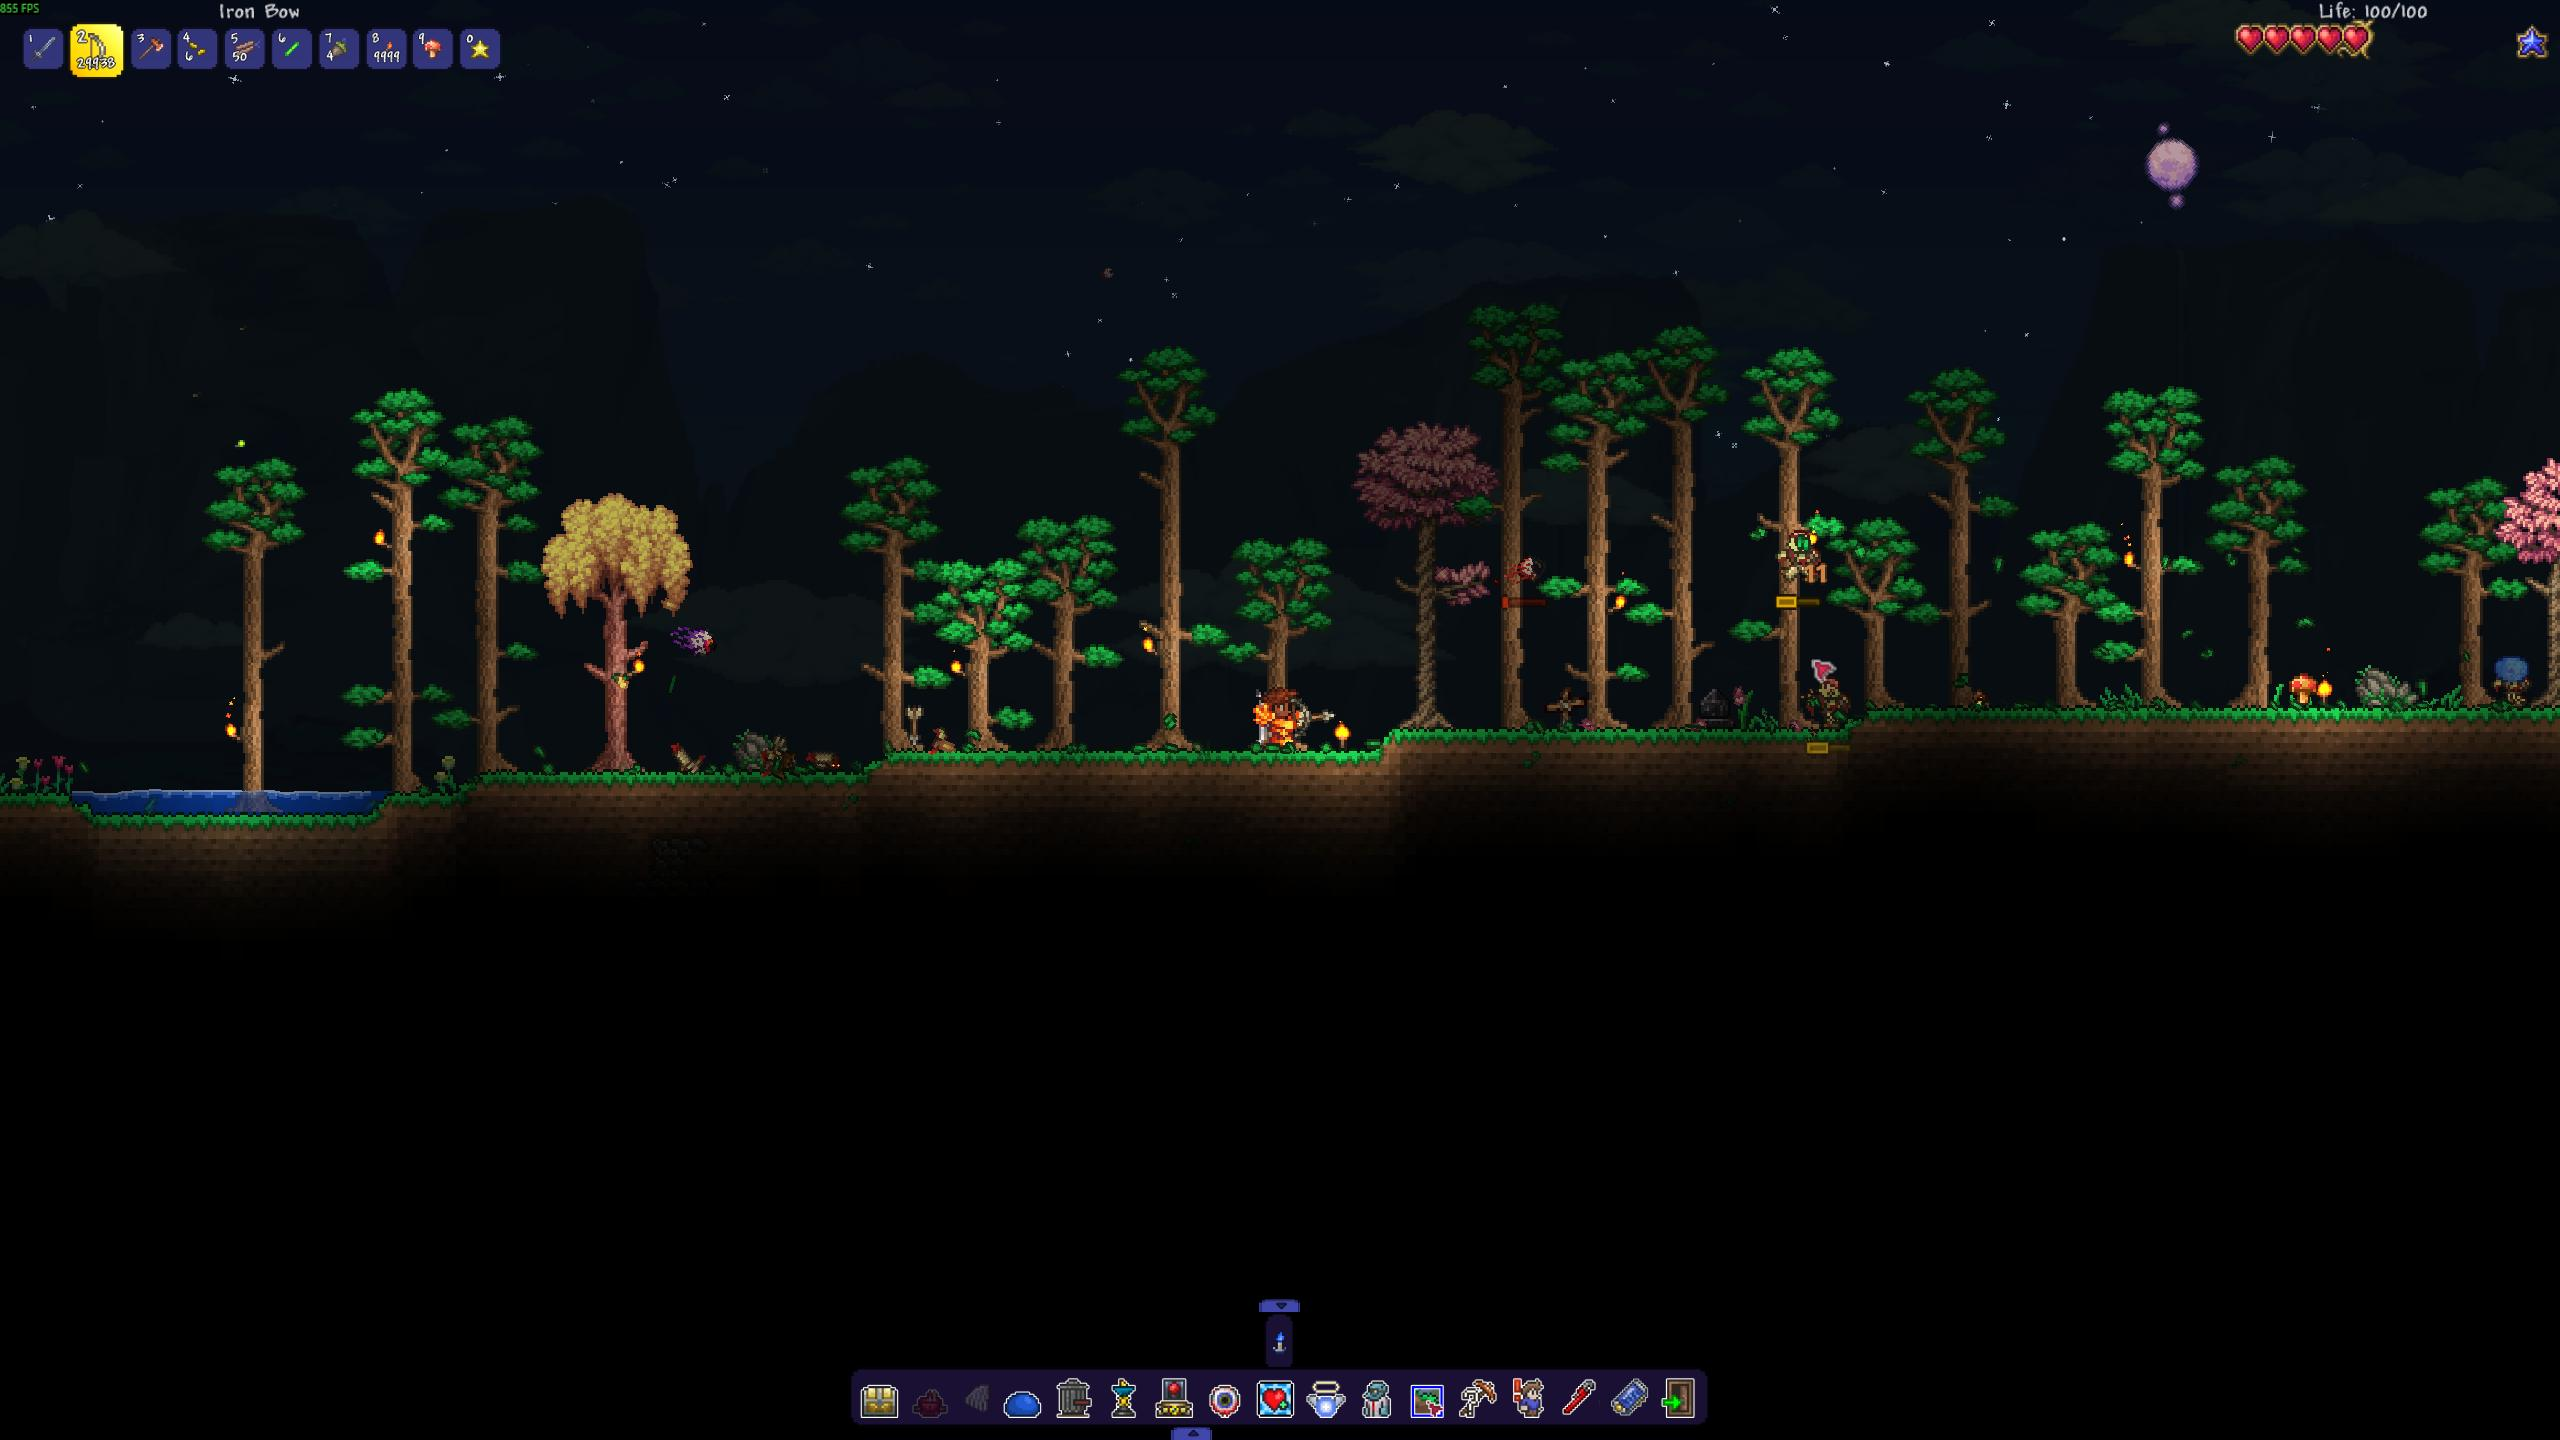Demon Eye: (663, 622, 724, 663), (1498, 552, 1545, 591)
Zombie: (1772, 526, 1825, 587), (2486, 652, 2532, 707), (1806, 677, 1851, 728)
